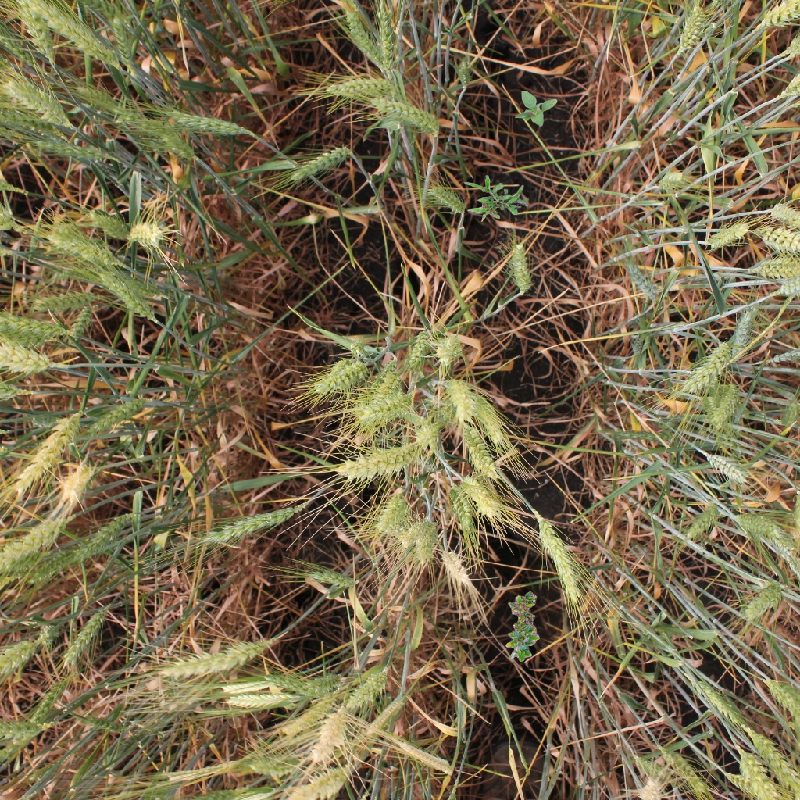spikelet: (23, 511, 137, 580), (33, 1, 123, 69), (193, 497, 307, 550), (673, 657, 749, 734), (156, 632, 275, 681), (9, 413, 82, 492), (532, 510, 587, 606), (741, 722, 799, 799), (333, 436, 422, 483), (1, 513, 66, 574), (332, 1, 391, 67), (1, 73, 73, 127), (731, 505, 799, 561), (41, 222, 120, 270), (95, 266, 161, 323), (1, 133, 110, 165), (678, 336, 735, 394), (285, 141, 355, 186), (61, 603, 111, 666), (374, 93, 444, 138), (11, 1, 60, 63), (282, 760, 358, 799), (307, 352, 370, 399), (307, 702, 353, 765), (85, 392, 147, 438), (1, 305, 68, 346), (17, 544, 80, 587), (457, 420, 501, 480), (735, 748, 786, 799), (320, 71, 401, 103), (736, 575, 788, 624), (352, 387, 413, 428), (1, 334, 57, 378), (160, 109, 248, 137), (219, 682, 294, 714), (665, 748, 712, 799), (56, 455, 101, 506), (372, 1, 406, 68), (702, 446, 756, 488), (461, 469, 505, 519), (621, 257, 667, 304), (344, 664, 391, 710), (302, 561, 358, 599), (672, 1, 709, 56), (370, 489, 413, 536), (503, 237, 537, 296), (395, 739, 452, 774), (726, 302, 760, 360), (703, 381, 744, 429), (403, 512, 440, 565), (763, 675, 799, 729), (28, 286, 98, 313), (422, 181, 473, 218), (440, 373, 479, 421), (72, 79, 122, 116), (701, 216, 752, 252), (1, 633, 40, 680), (246, 745, 302, 777), (294, 667, 348, 700), (402, 321, 438, 370), (1, 23, 40, 67), (106, 12, 141, 61), (125, 214, 169, 251), (63, 301, 98, 346), (446, 481, 476, 533), (753, 222, 800, 255), (506, 614, 539, 661), (1, 714, 44, 750), (439, 545, 474, 588), (84, 207, 131, 239), (746, 253, 799, 281), (431, 329, 468, 368), (626, 308, 656, 355), (684, 505, 720, 542), (653, 163, 692, 197), (757, 1, 799, 32), (412, 415, 444, 452), (774, 59, 799, 104), (766, 198, 799, 231), (776, 386, 799, 431), (634, 771, 668, 799), (1, 372, 26, 406), (774, 268, 799, 300), (35, 619, 61, 649)
weed: (463, 175, 528, 222), (505, 591, 540, 662), (515, 91, 558, 127)
